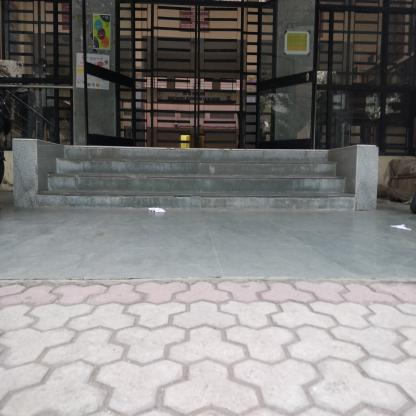stairs: (65, 153, 306, 217)
